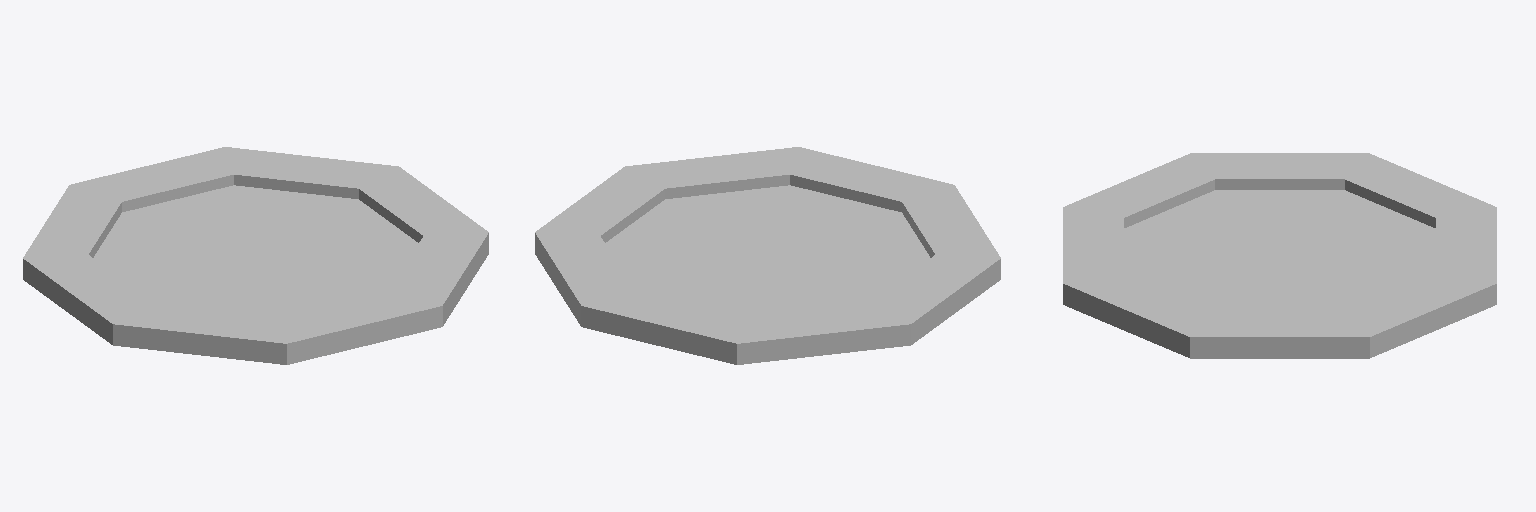
Rendered from droneBay.obj.
3 views of the same model, side by side, from view 1: azimuth 30°, elevation 25°; view 2: azimuth 150°, elevation 25°; view 3: azimuth 270°, elevation 25° (orthographic).
Parts seen in each view (by area): view 1: BaseFrame, Door26, Door1, Door30, Door29, Door2, Door25, Door22, Door5, Door4, Door0, Door27 (+21 smaller); view 2: BaseFrame, Door21, Door14, Door18, Door17, Door13, Door22, Door25, Door10, Door11, Door15, Door20 (+21 smaller); view 3: BaseFrame, Door10, Door5, Door13, Door2, Door14, Door1, Door9, Door6, Door8, Door7, Door12 (+21 smaller).
Part boxes in pixels (x1,y1,x2,y2): BaseFrame: (23, 147, 488, 364); Door26: (258, 196, 358, 254); Door1: (122, 206, 254, 255); Door30: (205, 185, 255, 254); Door29: (234, 185, 265, 253); Door2: (114, 213, 250, 254); Door25: (259, 200, 374, 254); Door22: (259, 234, 418, 255); Door5: (94, 252, 246, 264); Door4: (97, 239, 251, 255); Door0: (151, 199, 253, 254); Door27: (256, 192, 324, 255); BaseFrame: (535, 147, 1000, 364); Door21: (665, 196, 765, 254); Door14: (769, 206, 901, 255); Door18: (758, 185, 789, 253); Door17: (768, 185, 818, 254); Door13: (773, 213, 909, 254); Door22: (649, 200, 764, 254); Door25: (605, 234, 764, 255); Door10: (777, 252, 929, 264); Door11: (772, 239, 926, 255); Door15: (770, 199, 872, 254); Door20: (699, 192, 767, 255); BaseFrame: (1063, 153, 1496, 358); Door10: (1192, 190, 1279, 255); Door5: (1280, 190, 1367, 255); Door13: (1124, 219, 1277, 255); Door2: (1282, 219, 1435, 255); Door14: (1124, 229, 1276, 255); Door1: (1283, 229, 1435, 255); Door9: (1216, 190, 1278, 253); Door6: (1281, 190, 1343, 253); Door8: (1249, 190, 1279, 254); Door7: (1280, 190, 1310, 254); Door12: (1148, 209, 1278, 255).
Size of the model in its own units: 1.85 by 0.1 by 1.85.